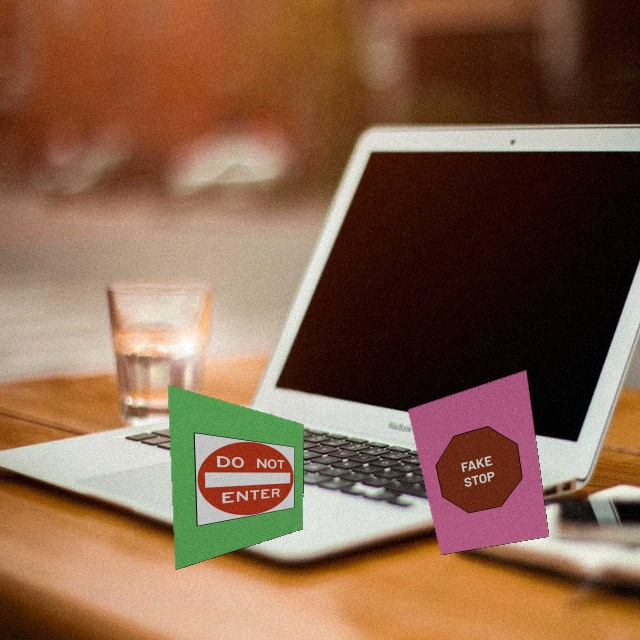DO_NOT_ENTER: (193, 412, 297, 527)
FAKE_STOP: (430, 418, 526, 522)
